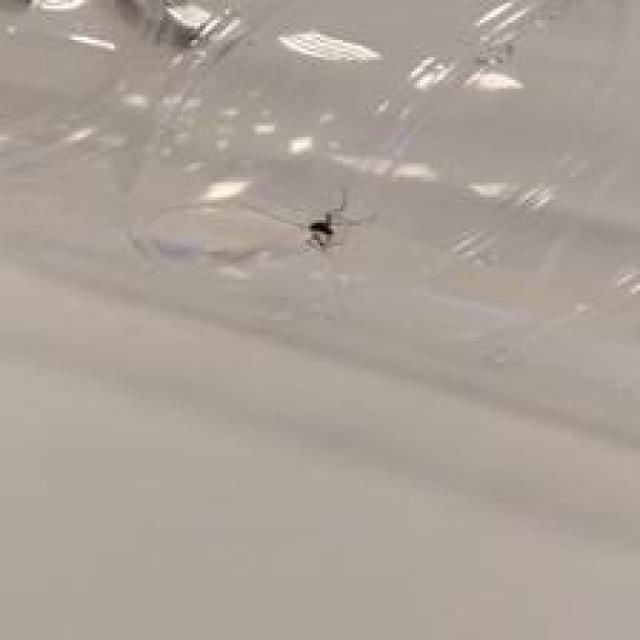Aedes albopictus: (307, 213, 336, 247)
